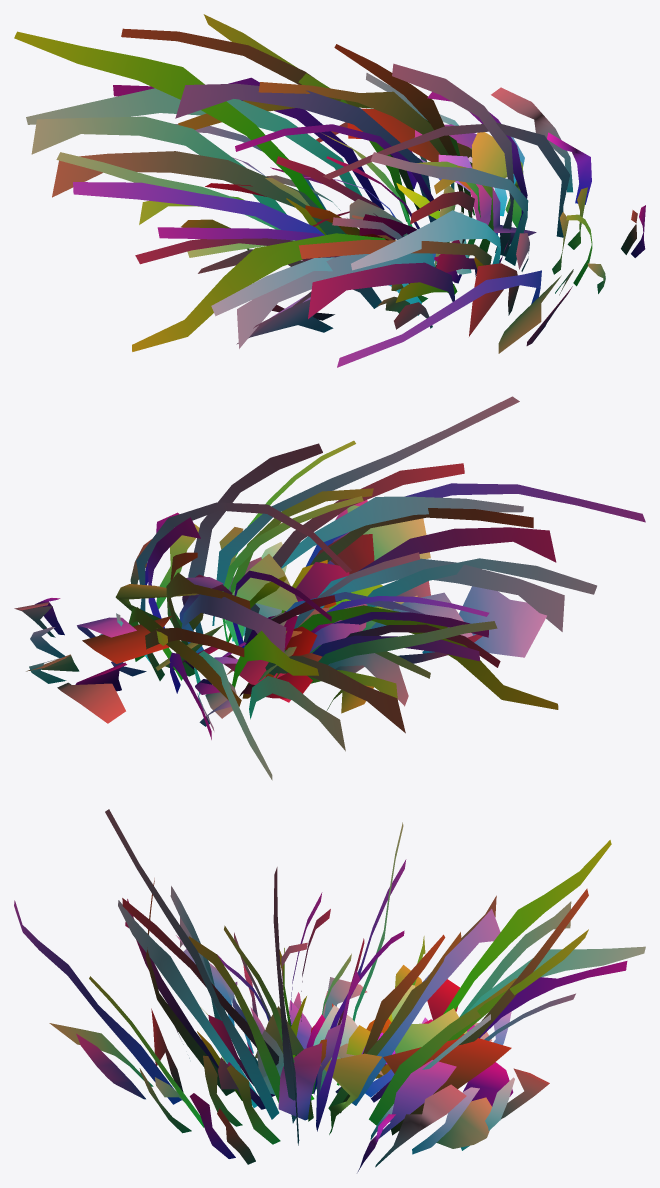
The model's file is Wild_Grass_vdilbaiia_Mid_vdilbaiia_VarG_LOD0.fbx.
3 renders of one model, top to bottom at view 1: azimuth 30°, elevation 25°; view 2: azimuth 150°, elevation 25°; view 3: azimuth 270°, elevation 25°, orthographic. The views are drawn at different scales.
Visible parts, largest first — view 1: _5t4j_VarG_LOD1; view 2: _5t4j_VarG_LOD1; view 3: _5t4j_VarG_LOD1.
Part boxes in pixels (box(x1,y1,x2,y2)): _5t4j_VarG_LOD1: box(14, 14, 645, 367); _5t4j_VarG_LOD1: box(14, 396, 645, 780); _5t4j_VarG_LOD1: box(14, 809, 645, 1172).
Bounding box in the file's own units: 48.27 × 21.67 × 57.8.
